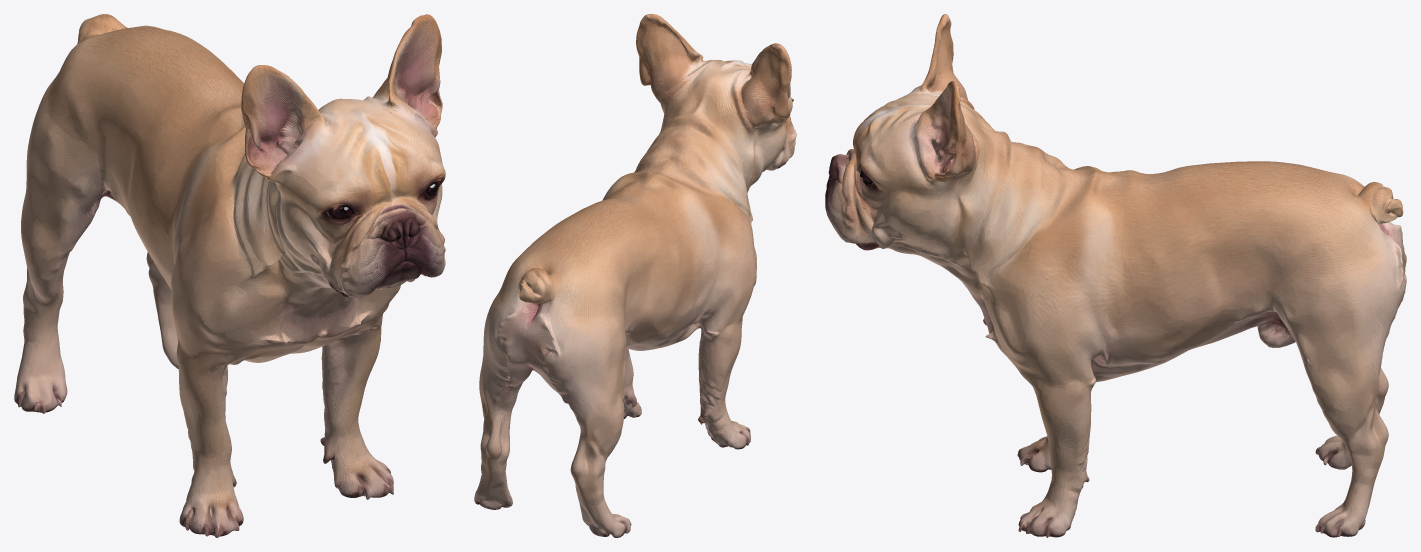
File: zhuangzhuang-standing-base.glb
3 renders of one model, left to right at view 1: azimuth 30°, elevation 25°; view 2: azimuth 150°, elevation 25°; view 3: azimuth 270°, elevation 25°, orthographic. The views are drawn at different scales.
Visible parts, largest first — view 1: Mesh_0; view 2: Mesh_0; view 3: Mesh_0.
Boxes of the visible parts, x1,y1,x2,y2 form: Mesh_0: (14, 14, 445, 537); Mesh_0: (474, 14, 796, 537); Mesh_0: (825, 14, 1406, 537).
Bounding box in the file's own units: 0.1714 × 0.4 × 0.4716.
Materials: 1 (1 with a texture image).
